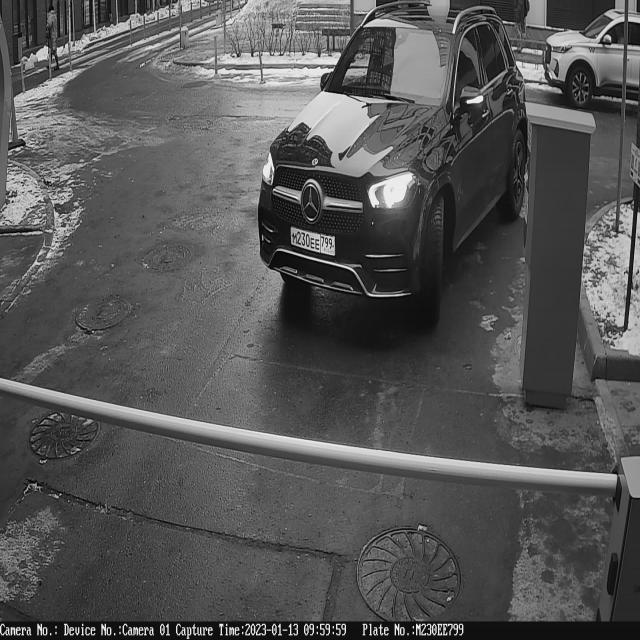car-plate-numbers: (290, 225, 338, 260)
